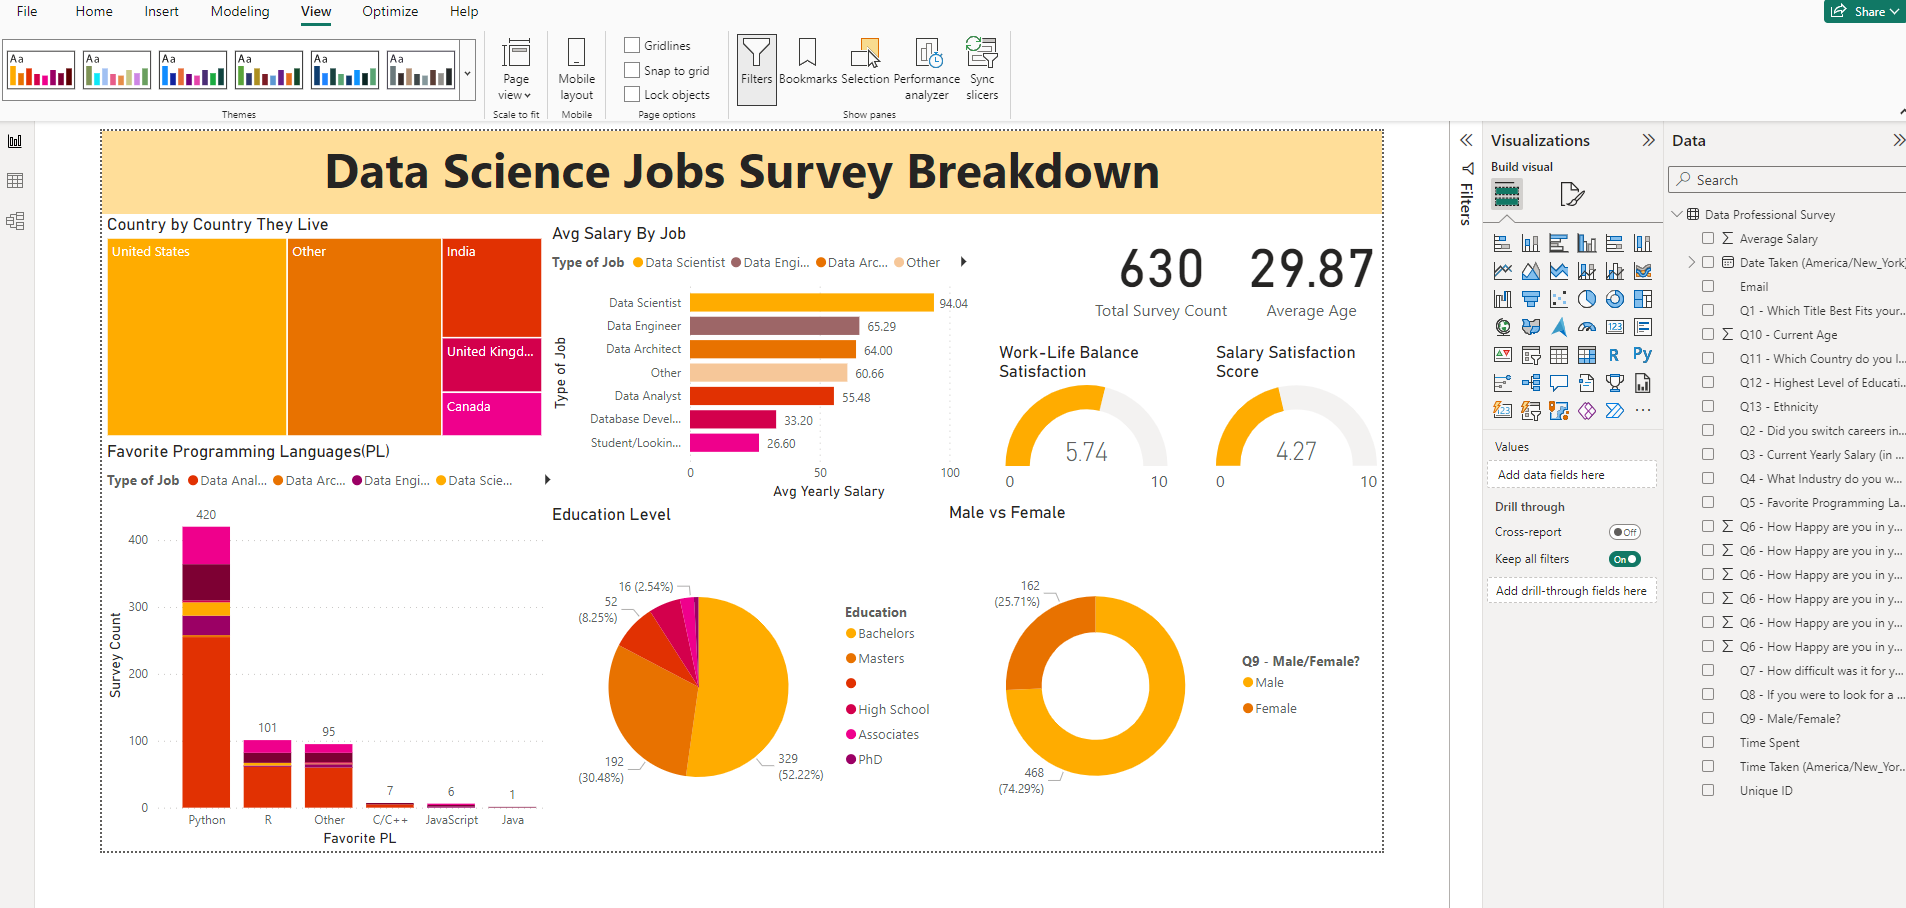

The dashboard page shown, as its layout file describes it:
{"tool":"powerbi","page":{"name":"Page 1","canvas":[1280,720],"ordinal":0},"visuals":[{"type":"textbox","box":[0,0,1280,83.2],"z":0},{"type":"card","fields":{"Values":["Count(Data Professional Survey.Unique ID)"]},"box":[978.7,84,159.9,111.7],"z":1000},{"type":"card","fields":{"Values":["Avg(Data Professional Survey.Q10 - Current Age)"]},"box":[1138.6,84,141.4,111.7],"z":2000},{"type":"barChart","title":"Avg Salary By Job","fields":{"Category":["Data Professional Survey.Q1 - Which Title Best Fits your Current Role?.1"],"Y":["Avg(Data Professional Survey.Average Salary)"],"Series":["Data Professional Survey.Q1 - Which Title Best Fits your Current Role?.1"]},"box":[444.8,92.5,436.6,280.4],"z":3000},{"type":"columnChart","title":"Favorite Programming Languages(PL)","fields":{"Category":["Data Professional Survey.Q5 - Favorite Programming Language.1"],"Y":["Count(Data Professional Survey.Unique ID)"],"Series":["Data Professional Survey.Q1 - Which Title Best Fits your Current Role?.1"]},"box":[0,310.2,465.4,409.9],"z":4000},{"type":"treemap","fields":{"Group":["Data Professional Survey.Q11 - Which Country do you live in?.1"],"Values":["CountNonNull(Data Professional Survey.Q11 - Which Country do you live in?.1)"]},"box":[0,83.2,444.8,227],"z":5000},{"type":"donutChart","title":"Male vs Female","fields":{"Y":["CountNonNull(Data Professional Survey.Q9 - Male/Female?)"],"Category":["Data Professional Survey.Q9 - Male/Female?","Data Professional Survey.Q11 - Which Country do you live in?.1"]},"box":[842.4,370.9,437.6,349.3],"z":6000},{"type":"gauge","title":"Salary Satisfaction Score","fields":{"Y":["Avg(Data Professional Survey.Q6 - How Happy are you in your Current Position with the following? (Salary))"],"MinValue":["Min(Data Professional Survey.Q6 - How Happy are you in your Current Position with the following? (Salary))"],"MaxValue":["Max(Data Professional Survey.Q6 - How Happy are you in your Current Position with the following? (Salary))"]},"box":[1109.5,210.6,170.5,160.3],"z":7000},{"type":"gauge","title":"Work-Life Balance Satisfaction","fields":{"Y":["Avg(Data Professional Survey.Q6 - How Happy are you in your Current Position with the following? (Work/Life Balance))"],"MinValue":["Min(Data Professional Survey.Q6 - How Happy are you in your Current Position with the following? (Work/Life Balance))"],"MaxValue":["Max(Data Professional Survey.Q6 - How Happy are you in your Current Position with the following? (Work/Life Balance))"]},"box":[891.7,210.6,184.9,160.3],"z":8000},{"type":"pieChart","title":"Education Level","fields":{"Y":["CountNonNull(Data Professional Survey.Q12 - Highest Level of Education)"],"Category":["Data Professional Survey.Q12 - Highest Level of Education"]},"box":[444.8,372.9,397.6,347.2],"z":9000}]}

Visuals, with their boxes on the page's 1280x720 design canvas (x1, y1, x2, y2). These are canvas units, not pixel positions in the 1906x908 screenshot, which may show the page scaled, cropped or inside an application window:
textbox: (0, 0, 1280, 83)
card - Count(Data Professional Survey.Unique ID): (979, 84, 1139, 196)
card - Avg(Data Professional Survey.Q10 - Current Age): (1139, 84, 1280, 196)
"Avg Salary By Job" barChart: (445, 92, 881, 373)
"Favorite Programming Languages(PL)" columnChart: (0, 310, 465, 720)
treemap - Data Professional Survey.Q11 - Which Country do you live in?.1 x CountNonNull(Data Professional Survey.Q11 - Which Country do you live in?.1): (0, 83, 445, 310)
"Male vs Female" donutChart: (842, 371, 1280, 720)
"Salary Satisfaction Score" gauge: (1110, 211, 1280, 371)
"Work-Life Balance Satisfaction" gauge: (892, 211, 1077, 371)
"Education Level" pieChart: (445, 373, 842, 720)
